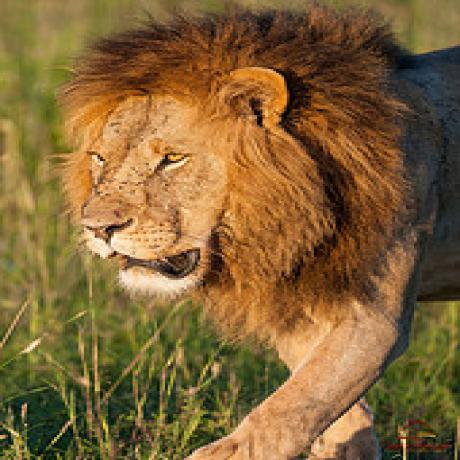Lion: (62, 11, 457, 460)
